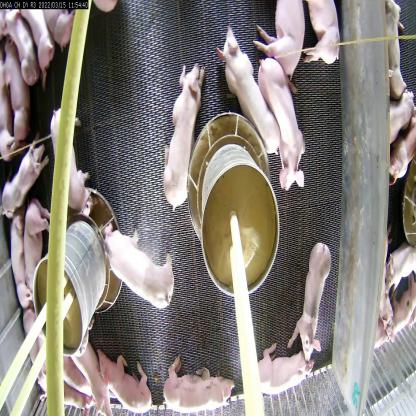Pig: (217, 12, 284, 162), (105, 214, 177, 320), (258, 55, 311, 191), (162, 56, 204, 212), (288, 237, 328, 364), (96, 335, 152, 412), (161, 354, 234, 409), (2, 8, 40, 91), (1, 147, 48, 213), (253, 345, 318, 392), (22, 200, 52, 296), (386, 0, 411, 99), (386, 233, 416, 290)
